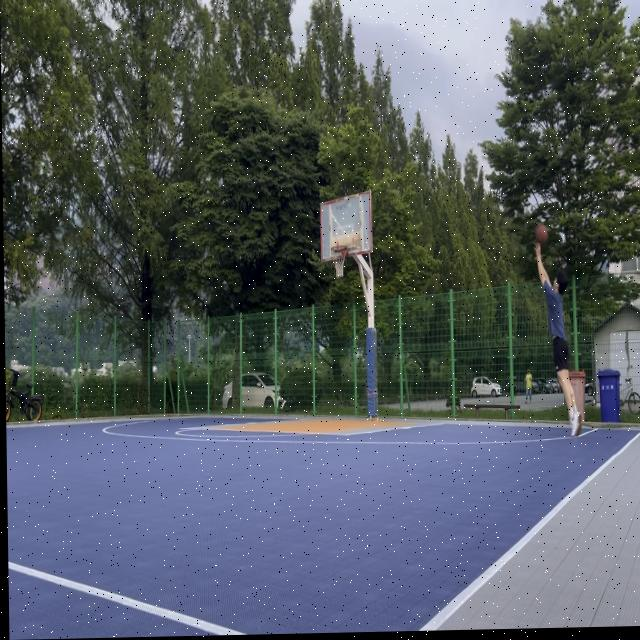basketball: (535, 222, 548, 245)
hoop: (330, 245, 348, 279)
